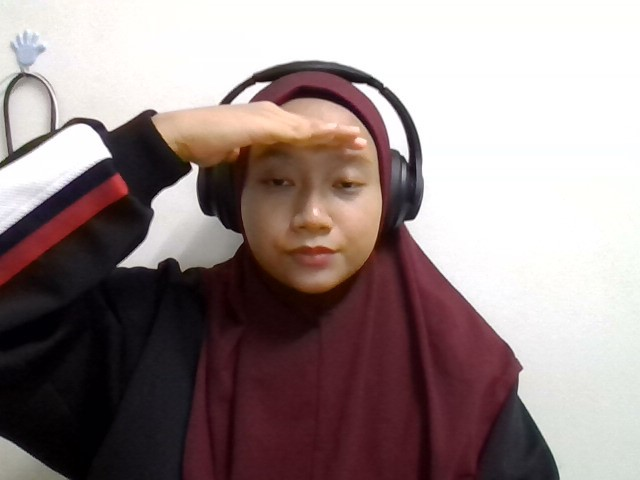Johor: (189, 100, 382, 168)
